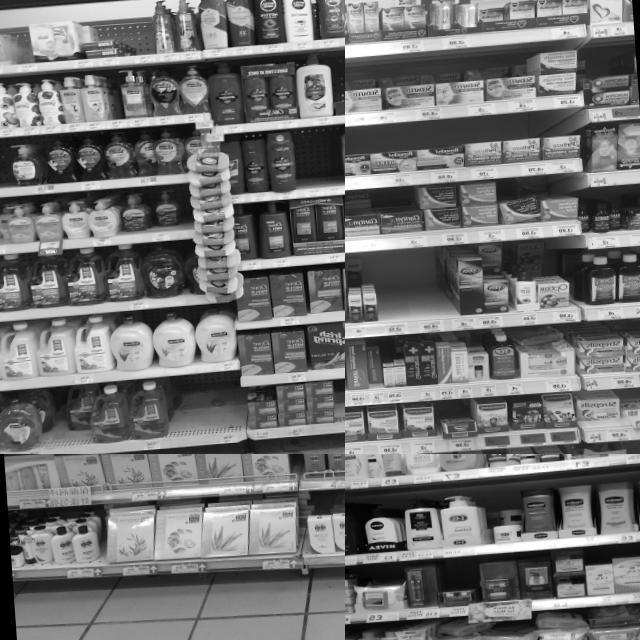empty: (178, 370, 244, 446), (406, 248, 440, 334), (374, 251, 408, 336), (296, 130, 322, 198), (320, 127, 345, 195), (131, 0, 155, 63), (332, 376, 345, 432), (0, 144, 10, 198), (20, 28, 32, 72)
